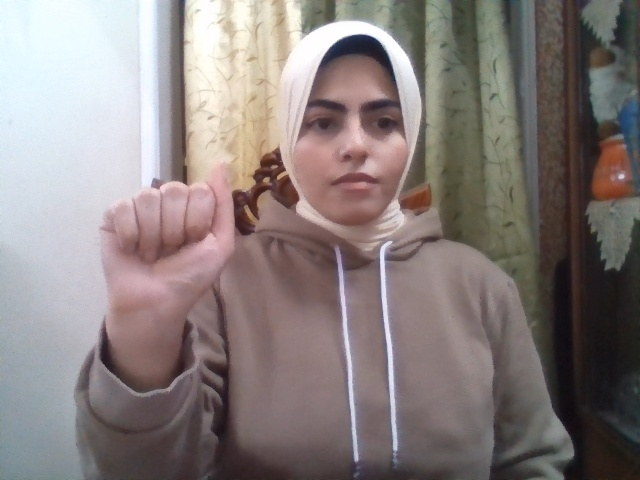A: (101, 162, 236, 320)
